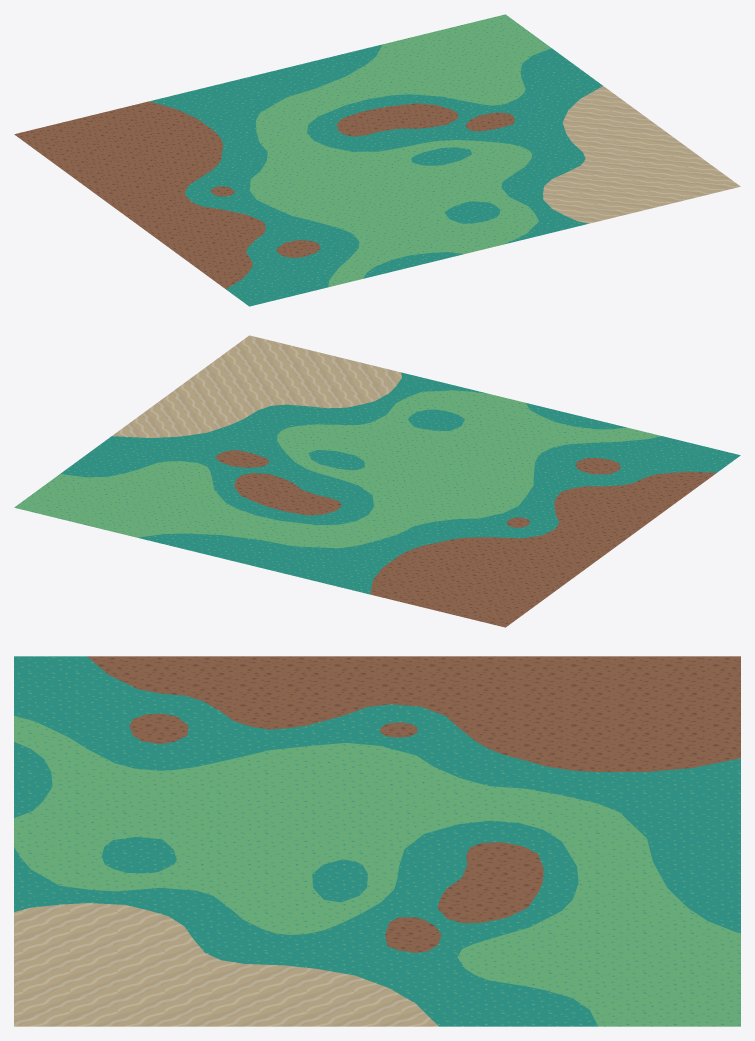
Rendered from ground.fbx.
3 views of the same model, one above another, from view 1: azimuth 30°, elevation 25°; view 2: azimuth 150°, elevation 25°; view 3: azimuth 270°, elevation 25° (orthographic). The views are drawn at different scales.
Parts seen in each view (by area): view 1: ground1; view 2: ground1; view 3: ground1.
Boxes of the visible parts, left/top/right/bottom form: ground1: left=14, top=14, right=740, bottom=306; ground1: left=14, top=335, right=740, bottom=627; ground1: left=14, top=656, right=740, bottom=1026.
Size of the model in its own units: 4500 by 0.000608 by 3732.
4 materials, 4 textured.
